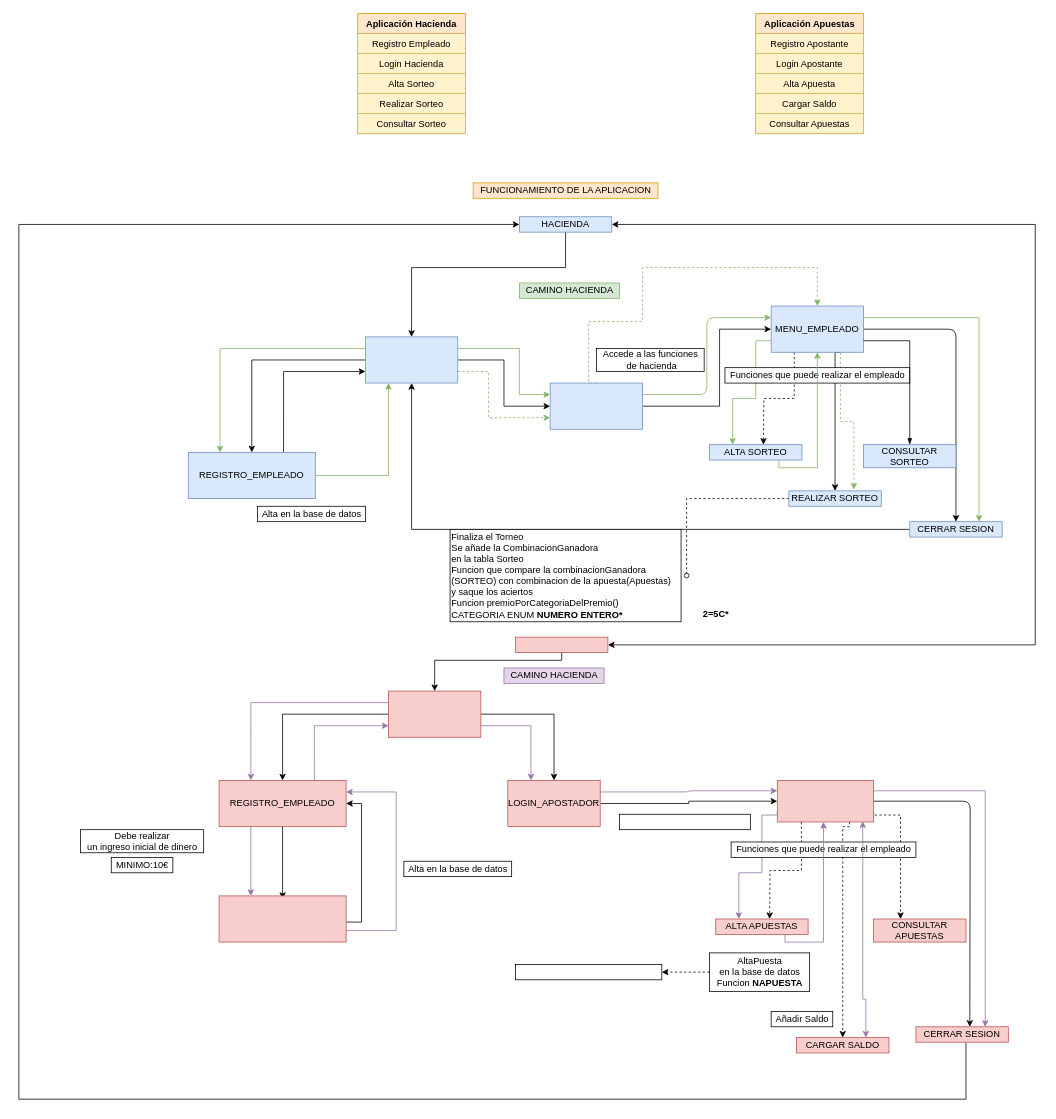
Some shapes in this 1056 by 1119 pixel diagram are drawn without their labels. The centre of each missing label's shape, as x and y in pixels:
"Accede al menu de apuestas" goes at pixel 684 822.
"APUESTAS" goes at pixel 561 644.
"HASTA SE QUEDE SIN SALDO" goes at pixel 588 972.
"LOGIN_EMPLEADO" goes at pixel 596 405.
"MENU_APOSTADOR" goes at pixel 825 801.
"MENU_APUESTAS" goes at pixel 434 713.
"MENU_HACIENDA" goes at pixel 411 359.
"PASARELA" goes at pixel 282 918.
